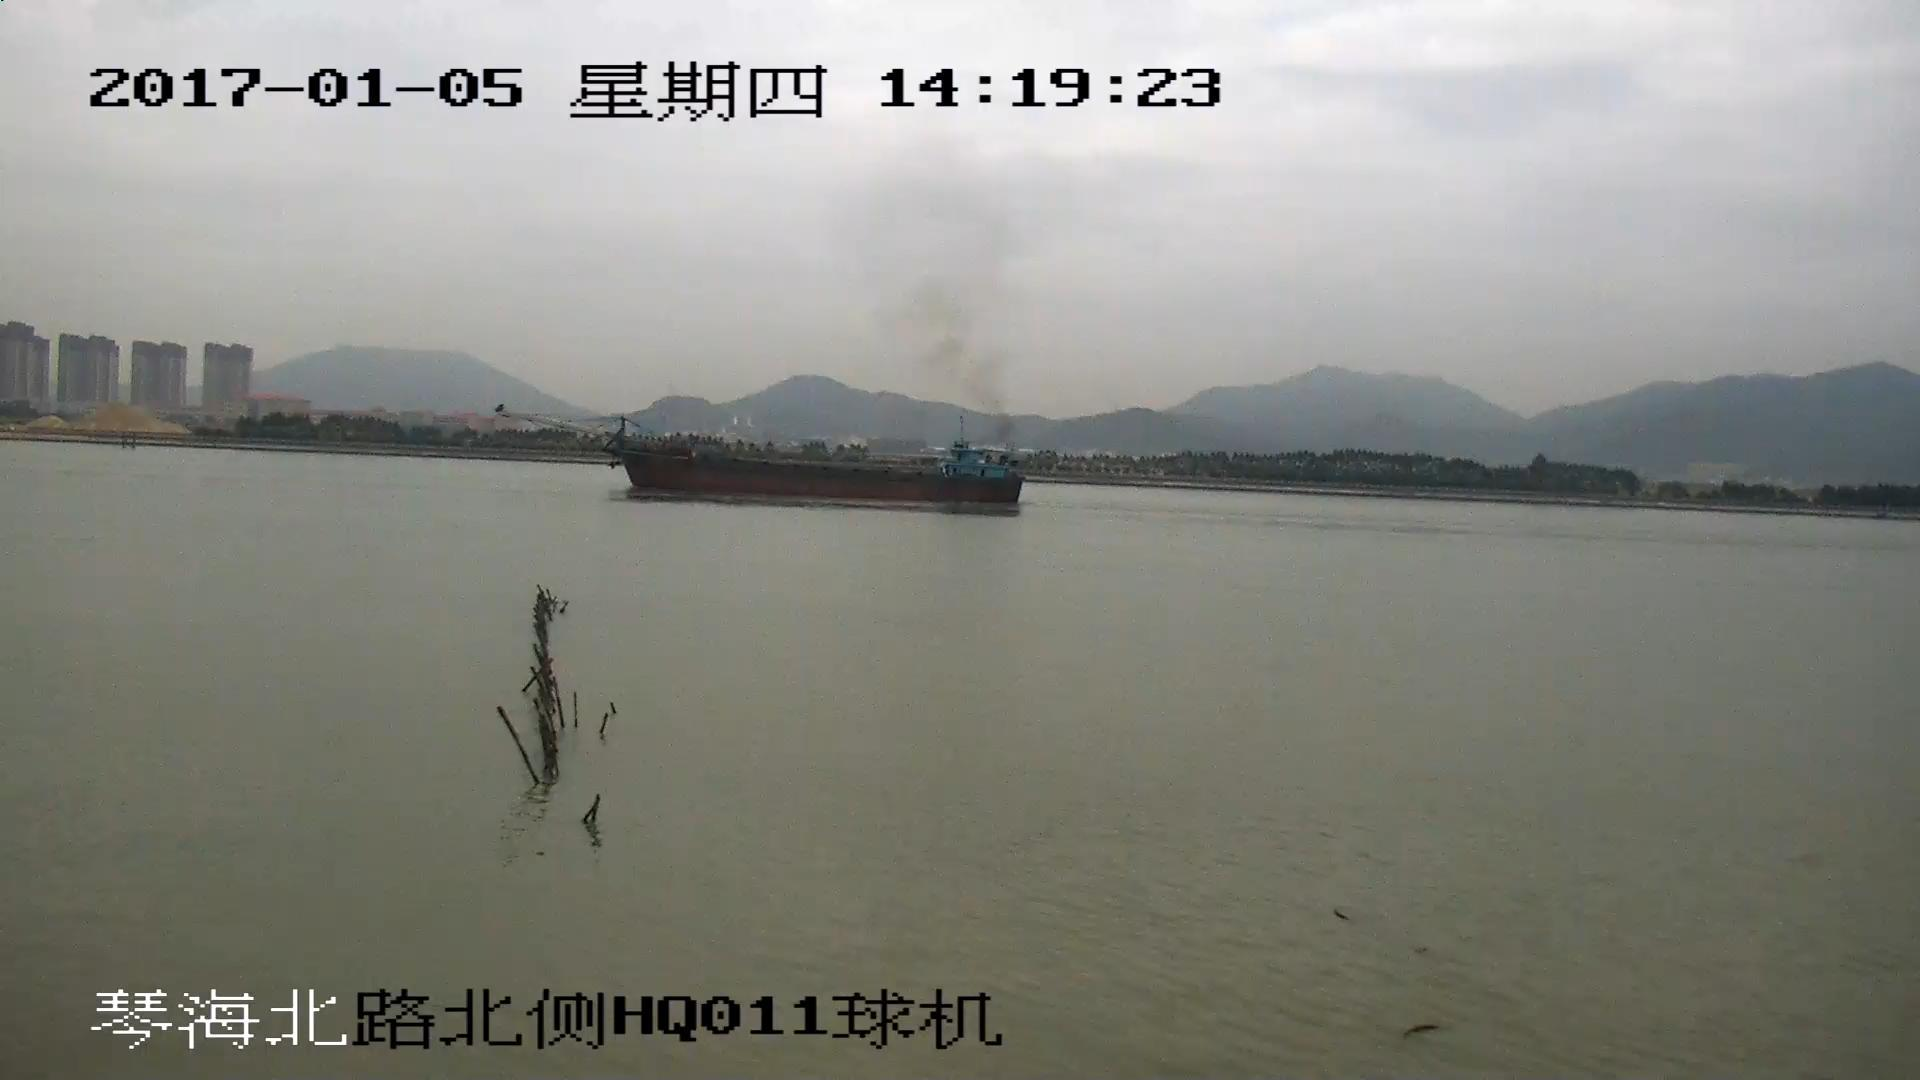Ship: (498, 406, 1021, 506)
